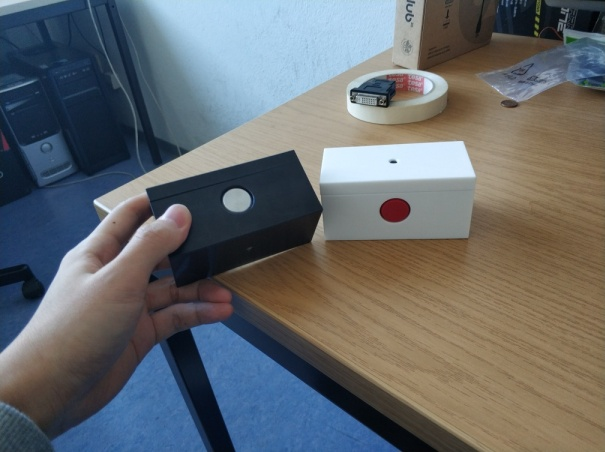black+black+silver: (142, 147, 324, 285)
white+white+red: (317, 139, 480, 243)
